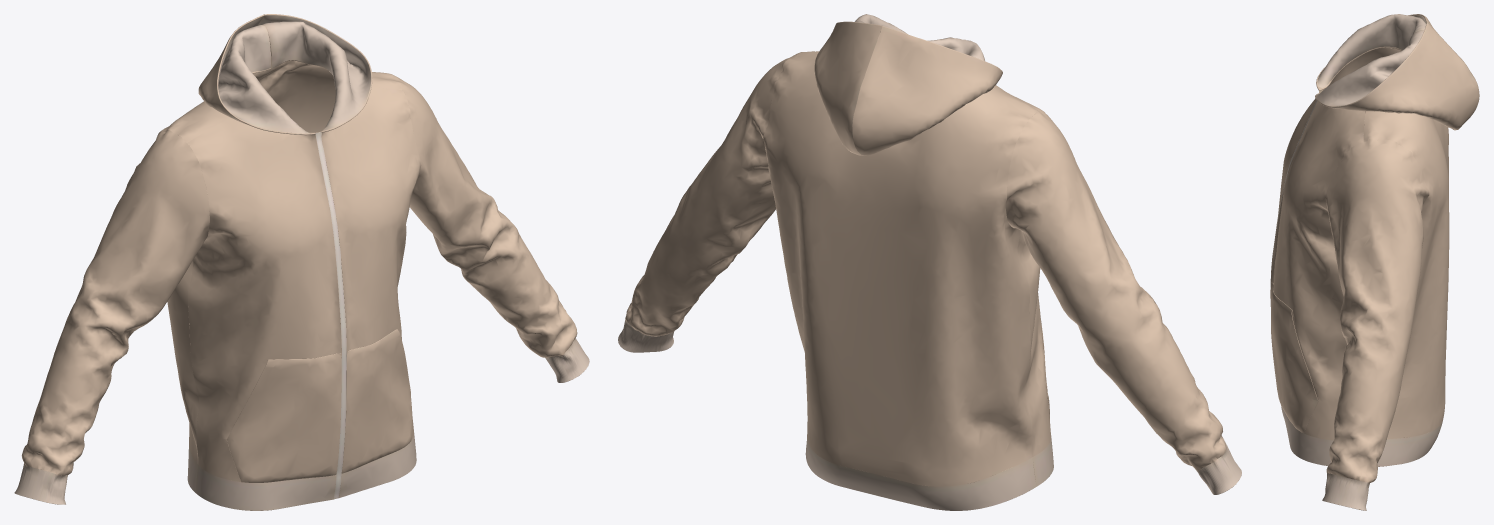
The model's file is sudadera-zip-crema.glb.
The picture shows the model from 3 angles, left to right: view 1: azimuth 30°, elevation 25°; view 2: azimuth 150°, elevation 25°; view 3: azimuth 270°, elevation 25°; orthographic projection. The views are drawn at different scales.
Visible parts, largest first — view 1: Object_4; view 2: Object_4; view 3: Object_4.
Boxes of the visible parts, bbox=[...] form: Object_4: bbox=[14, 14, 589, 510]; Object_4: bbox=[618, 14, 1241, 510]; Object_4: bbox=[1270, 14, 1479, 510].
Size of the model in its own units: 0.9893 by 0.7199 by 0.337.
Materials: 1 (1 with a texture image).
